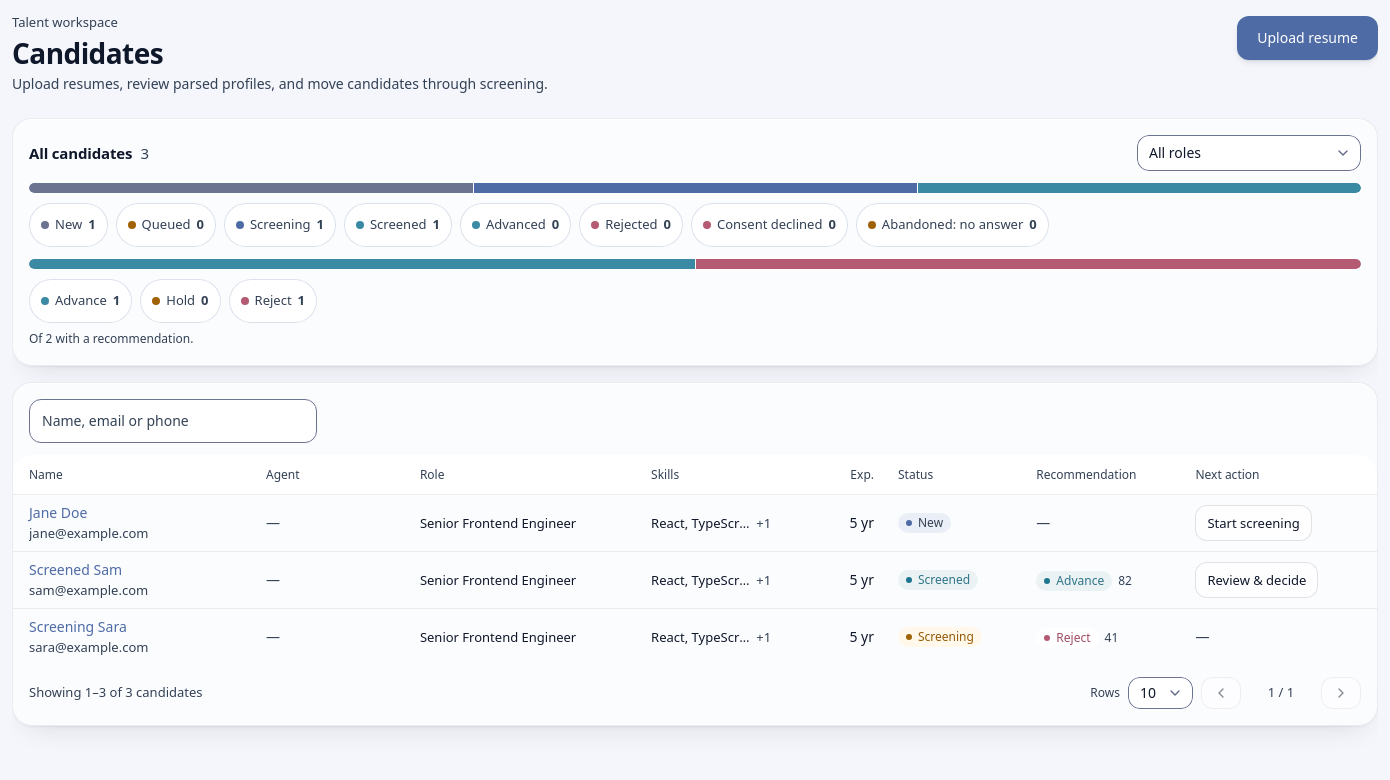
CandidatesPage › toggles a status filter into the URL and clears it
The width and height of the screenshot is (1390, 780).
Expected: the link "Jane Doe" is shown, [29,503,88,522]
Click the button "Screened 1". click: [398, 225]
box: [344,203,452,247]
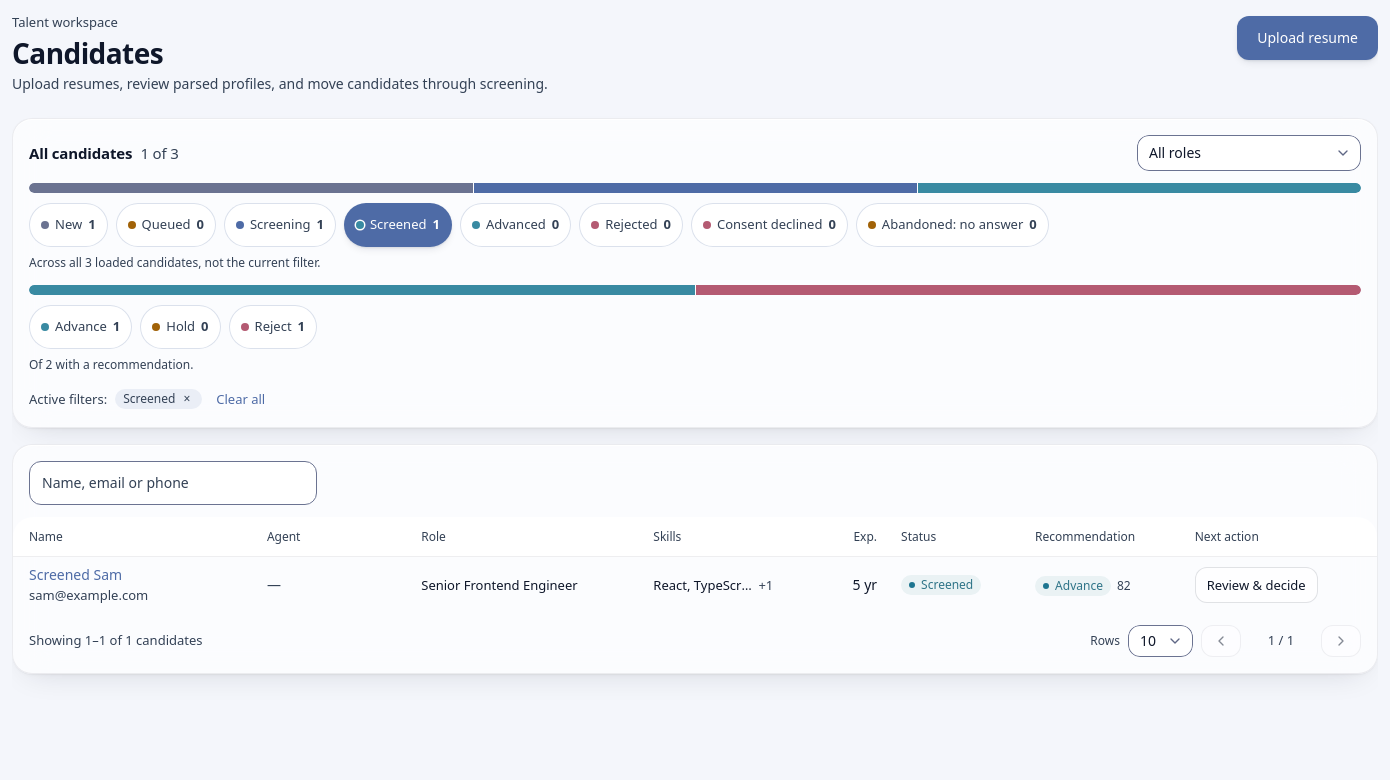
Expected: the link "Screened Sam" is shown, [29,565,122,584]
Expected: the link "Jane Doe" is gone
Clear all restores the full list.
Click the button "Clear all". click: [241, 399]
box: [210,387,271,411]
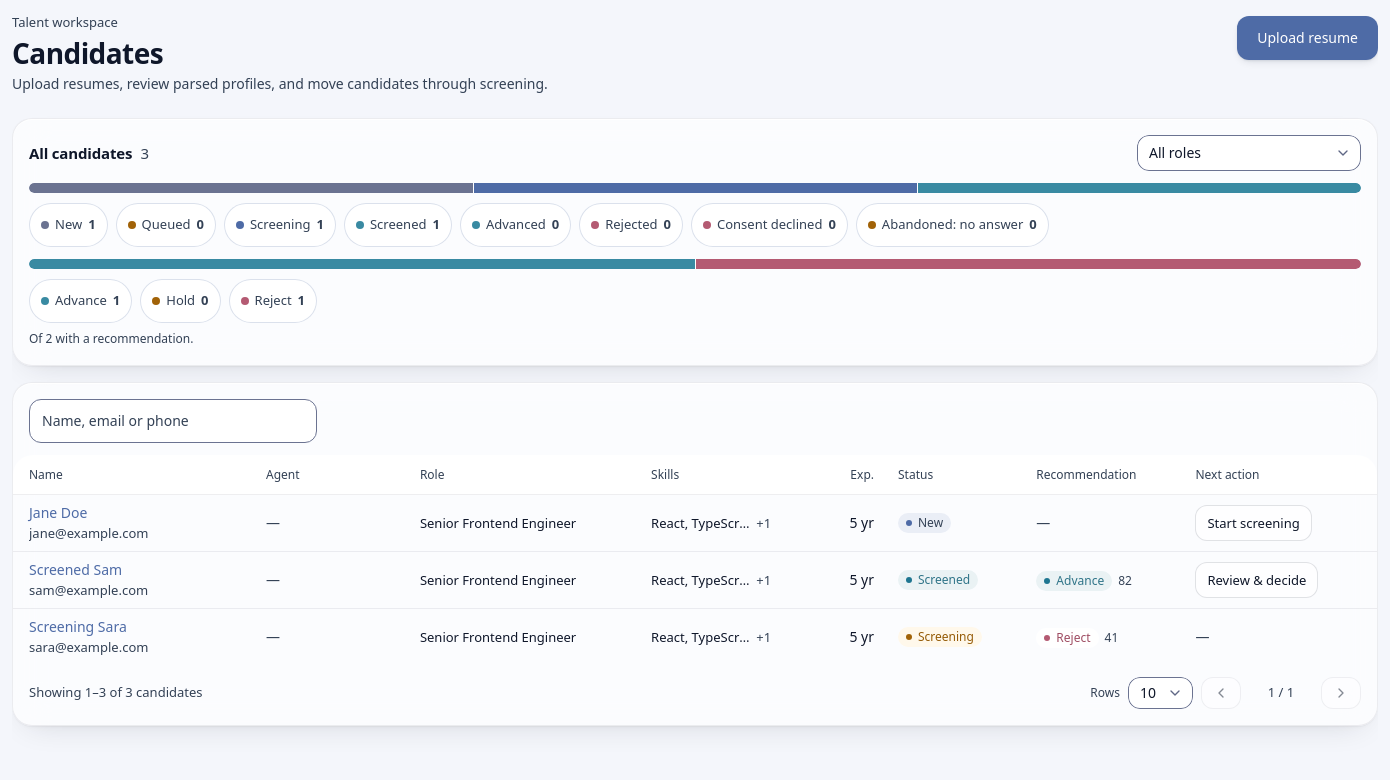
Expected: the link "Jane Doe" is shown, [29,503,88,522]
